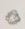microplastic: (4, 9, 21, 24)
